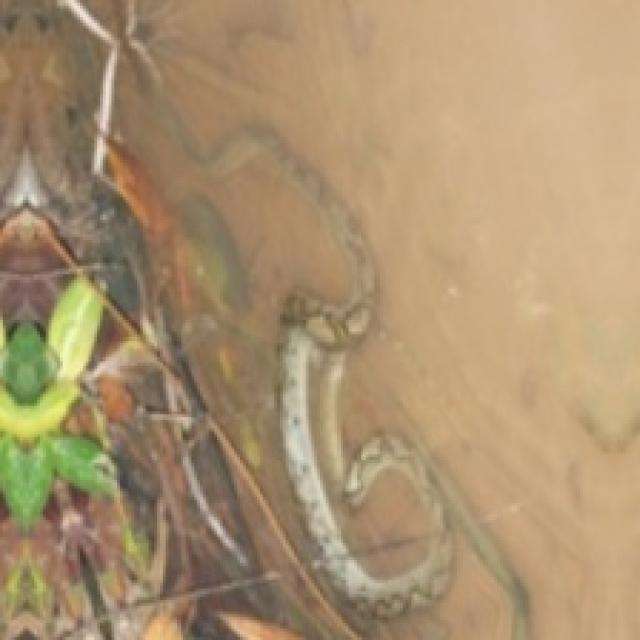reticulated python: (121, 34, 452, 617)
